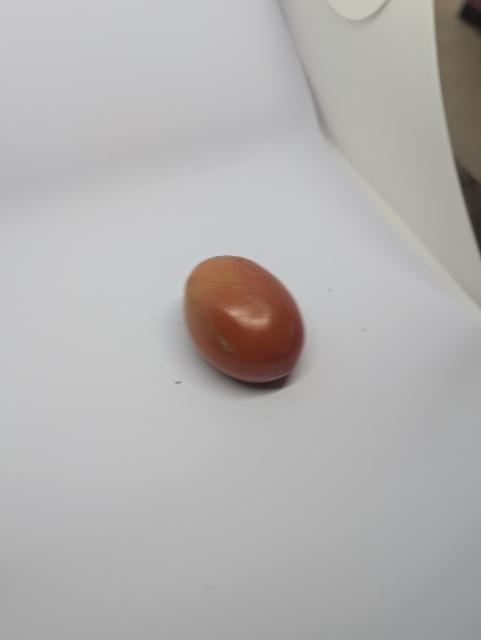red: (180, 254, 312, 389)
